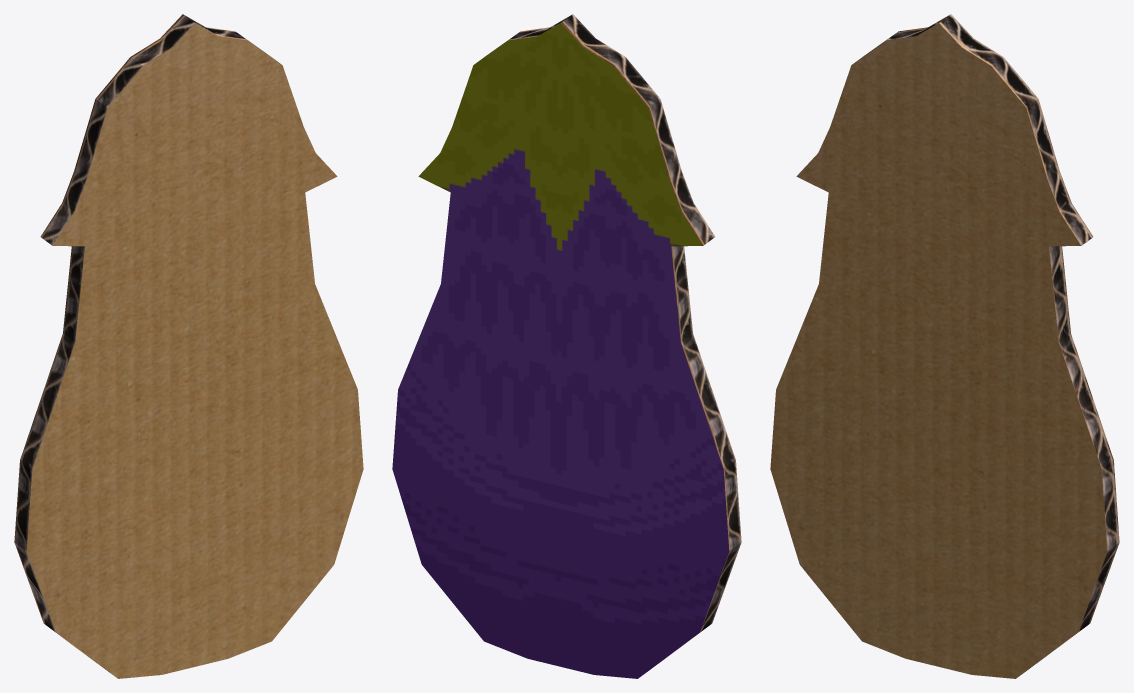
The model's file is BERENJENA_A.glb.
3 views of the same model, side by side, from view 1: azimuth 30°, elevation 25°; view 2: azimuth 150°, elevation 25°; view 3: azimuth 330°, elevation 25° (orthographic).
Visible parts, largest first — view 1: BERENJENA; view 2: BERENJENA; view 3: BERENJENA.
Boxes of the visible parts, x1,y1,x2,y2 form: BERENJENA: (14,14,363,678); BERENJENA: (392,14,741,678); BERENJENA: (770,14,1119,678).
Size of the model in its own units: 1.42 by 2.6 by 0.09.
Materials: 1 (1 with a texture image).
